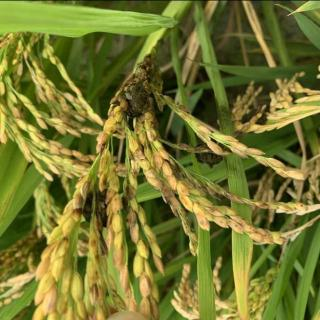Gosong-Palsu: (115, 70, 153, 119), (80, 185, 108, 227), (194, 140, 223, 166)
